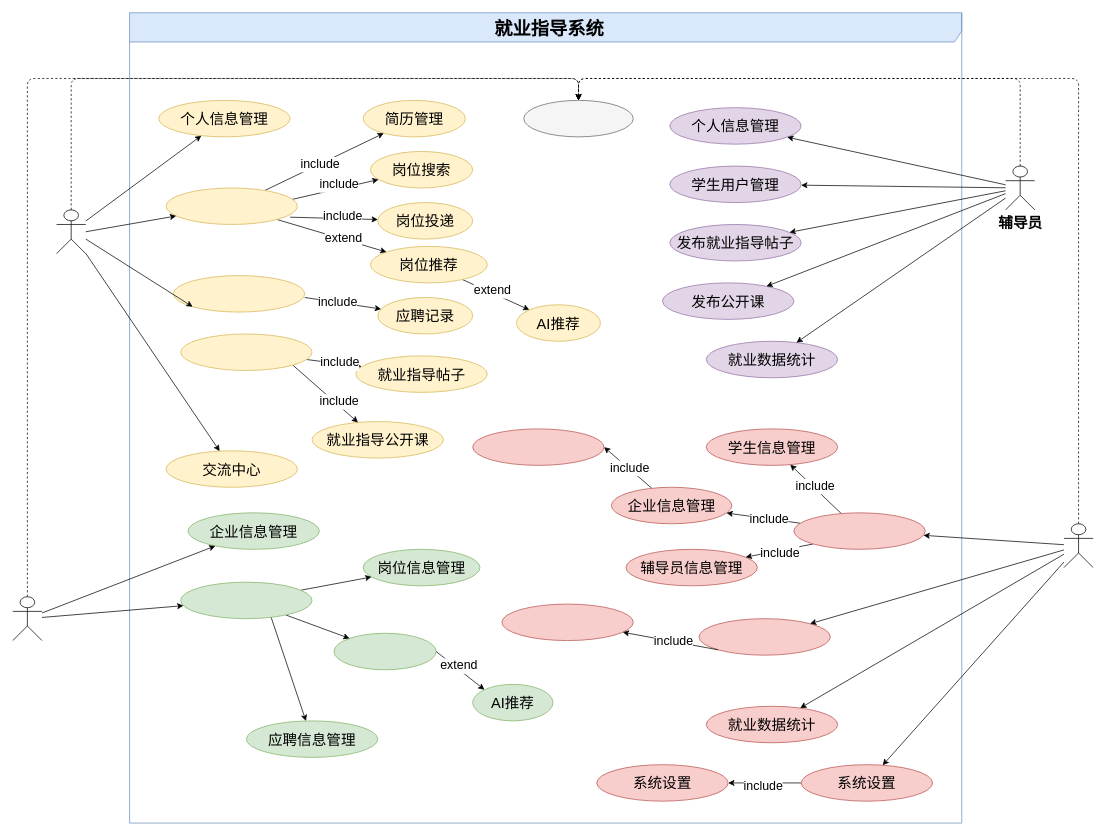
The diagram is 1113 pixels wide and 836 high, and some of its shapes have lost their labels. The centre of each missing label's shape, as x and y in pixels:
"业务管理" goes at (x=764, y=636).
"企业" goes at (x=27, y=618).
"企业岗位审核" goes at (x=538, y=446).
"学生" goes at (x=71, y=231).
"就业指导" goes at (x=246, y=351).
"岗位审核" goes at (x=567, y=622).
"应聘管理" goes at (x=239, y=293).
"招聘管理" goes at (x=246, y=600).
"求职管理" goes at (x=231, y=205).
"求职者推荐" goes at (x=384, y=651).
"用户管理" goes at (x=859, y=530).
"登录 / 注册" goes at (x=578, y=118).
"管理员" goes at (x=1078, y=545).
